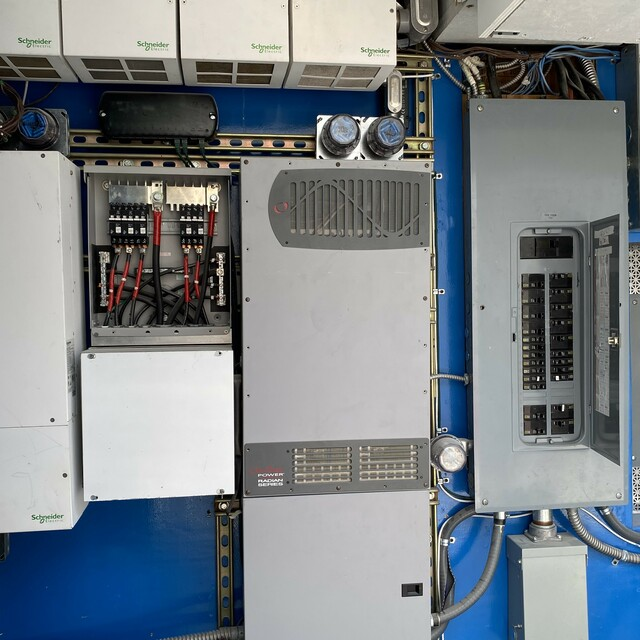inverter: (228, 144, 440, 640)
